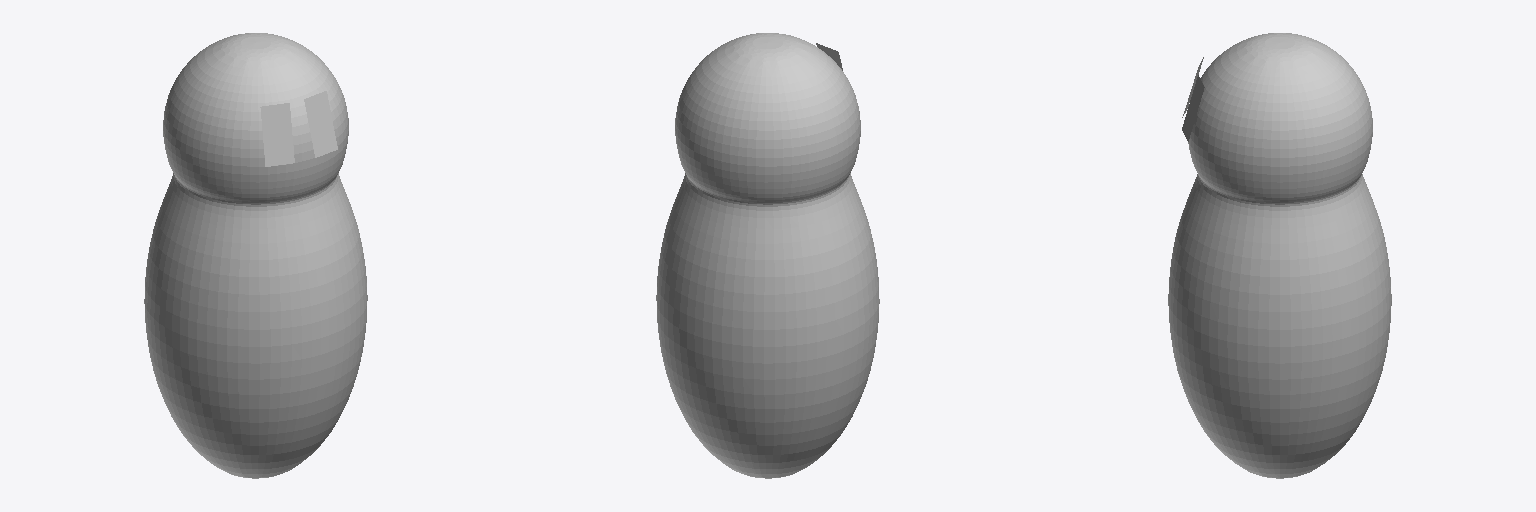
The model's file is leafy.obj.
The picture shows the model from 3 angles: view 1: azimuth 30°, elevation 25°; view 2: azimuth 150°, elevation 25°; view 3: azimuth 270°, elevation 25°; orthographic projection.
Parts seen in each view (by area): view 1: leafy; view 2: leafy; view 3: leafy.
Part boxes in pixels (x1,y1,x2,y2): leafy: (144,33,367,478); leafy: (656,33,879,478); leafy: (1168,33,1391,478).
Size of the model in its own units: 0.5732 by 1.21 by 0.5732.